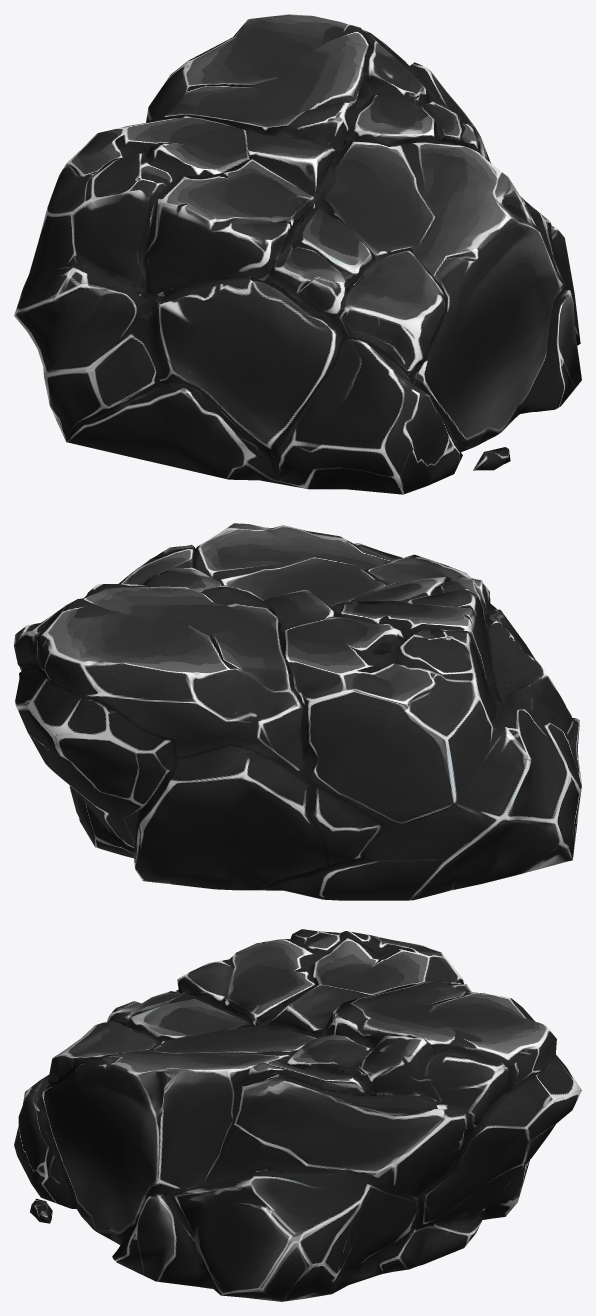
3 views of the same model, one above another, from view 1: azimuth 30°, elevation 25°; view 2: azimuth 150°, elevation 25°; view 3: azimuth 270°, elevation 25° (orthographic). The views are drawn at different scales.
Parts seen in each view (by area): view 1: Mesh_0; view 2: Mesh_0; view 3: Mesh_0.
Boxes of the visible parts, left/top/right/bottom form: Mesh_0: left=14, top=14, right=581, bottom=494; Mesh_0: left=14, top=523, right=581, bottom=900; Mesh_0: left=14, top=929, right=581, bottom=1301.
Size of the model in its own units: 1.77 by 0.8008 by 1.89.
Materials: 1 (1 with a texture image).
